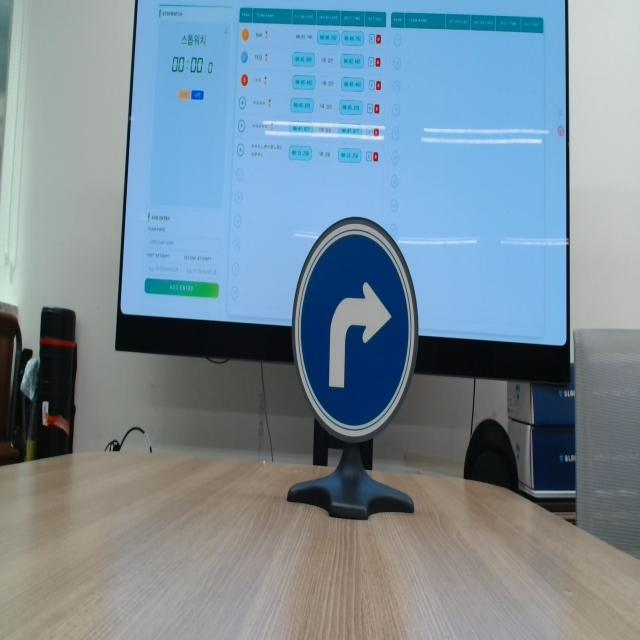right_dierection: (288, 198, 430, 452)
